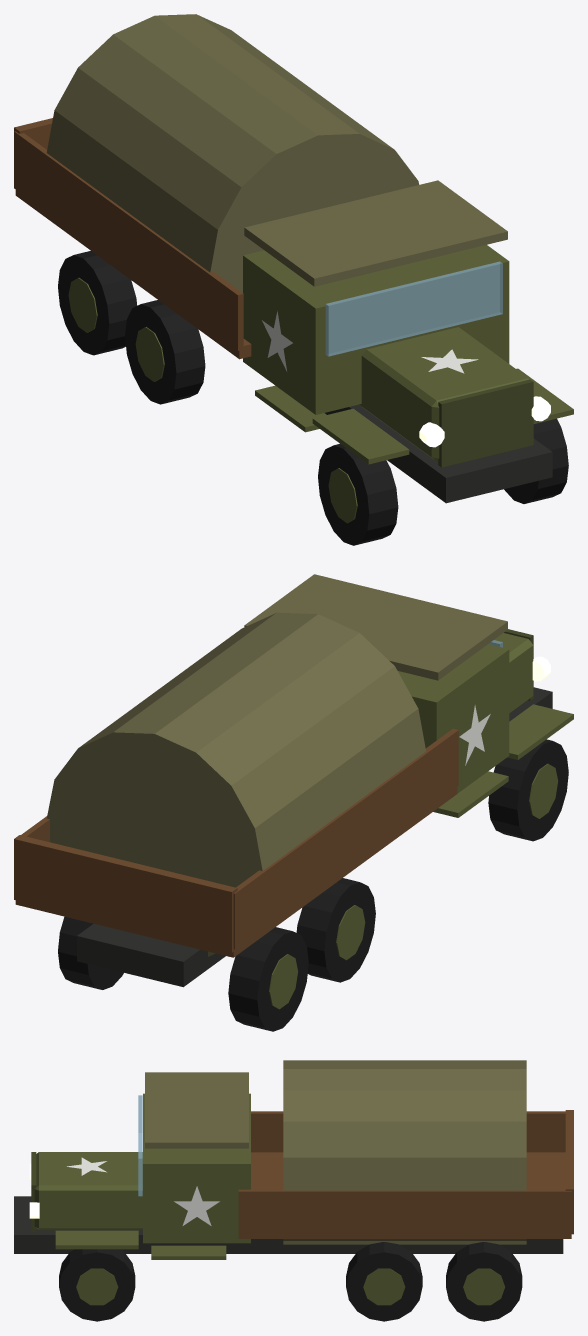
Rendered from caminhao.glb.
3 views of the same model, one above another, from view 1: azimuth 30°, elevation 25°; view 2: azimuth 150°, elevation 25°; view 3: azimuth 270°, elevation 25° (orthographic). The views are drawn at different scales.
Visible parts, largest first — view 1: Caminhao; view 2: Caminhao; view 3: Caminhao.
Part boxes in pixels (<box>): Caminhao: <box>14,14,573,545</box>; Caminhao: <box>14,574,573,1031</box>; Caminhao: <box>14,1060,573,1321</box>.
Bounding box in the file's own units: 2.28 × 2.87 × 6.73.
